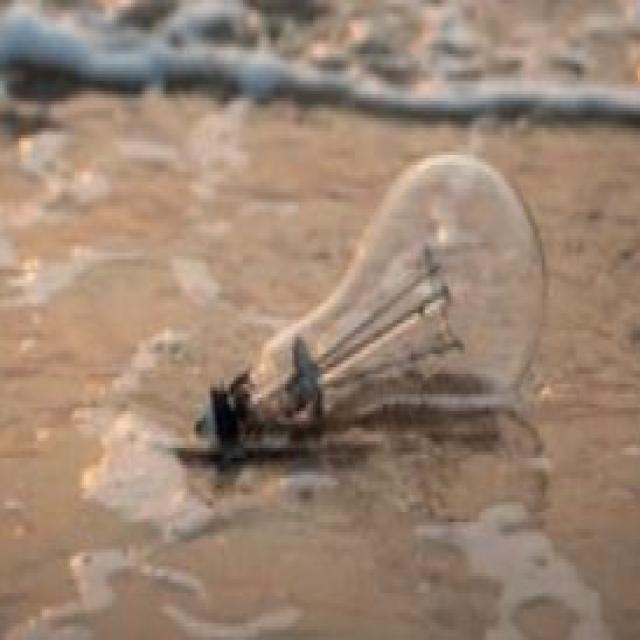electronic: (187, 148, 549, 465)
